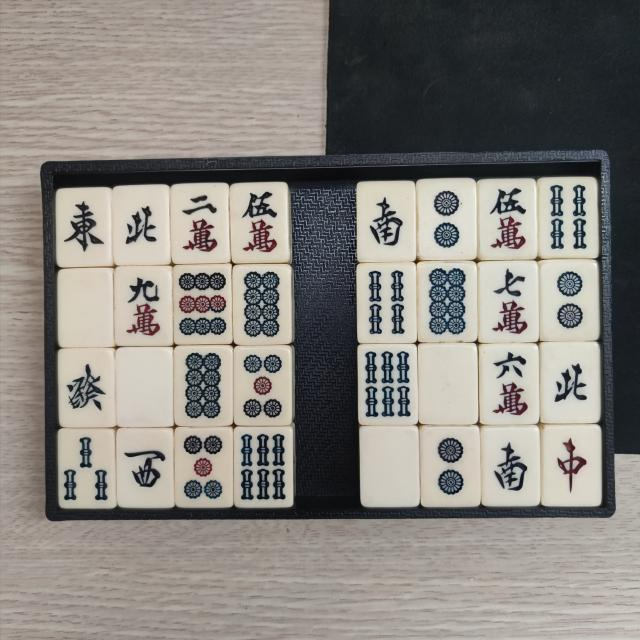hdg: (62, 352, 110, 423)
hdr: (548, 433, 598, 503)
hdw: (424, 348, 474, 420), (366, 432, 414, 502), (62, 272, 108, 342), (122, 354, 168, 422)
hwe: (61, 193, 108, 262)
hwn: (118, 192, 166, 260), (547, 349, 594, 417)
hws: (486, 432, 536, 502), (362, 186, 409, 256)
hww: (121, 434, 170, 502)
sb3: (61, 433, 111, 505)
sb4: (542, 180, 592, 255), (361, 266, 409, 338)
sb6: (362, 348, 414, 420), (238, 430, 288, 504)
sc2: (175, 190, 224, 258)
sc5: (237, 188, 286, 259), (485, 184, 532, 256)
sc6: (486, 348, 532, 420)
sc7: (486, 265, 534, 338)
sc9: (120, 271, 166, 341)
sd2: (424, 184, 472, 254), (426, 432, 473, 502), (548, 266, 592, 334)
sd5: (179, 432, 228, 503), (240, 351, 286, 423)
sd8: (237, 269, 285, 341), (180, 350, 229, 420), (424, 265, 471, 337)
sd9: (176, 268, 230, 340)
